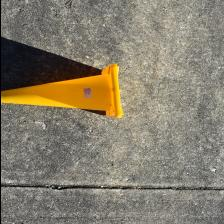cone: (0, 63, 124, 119)
